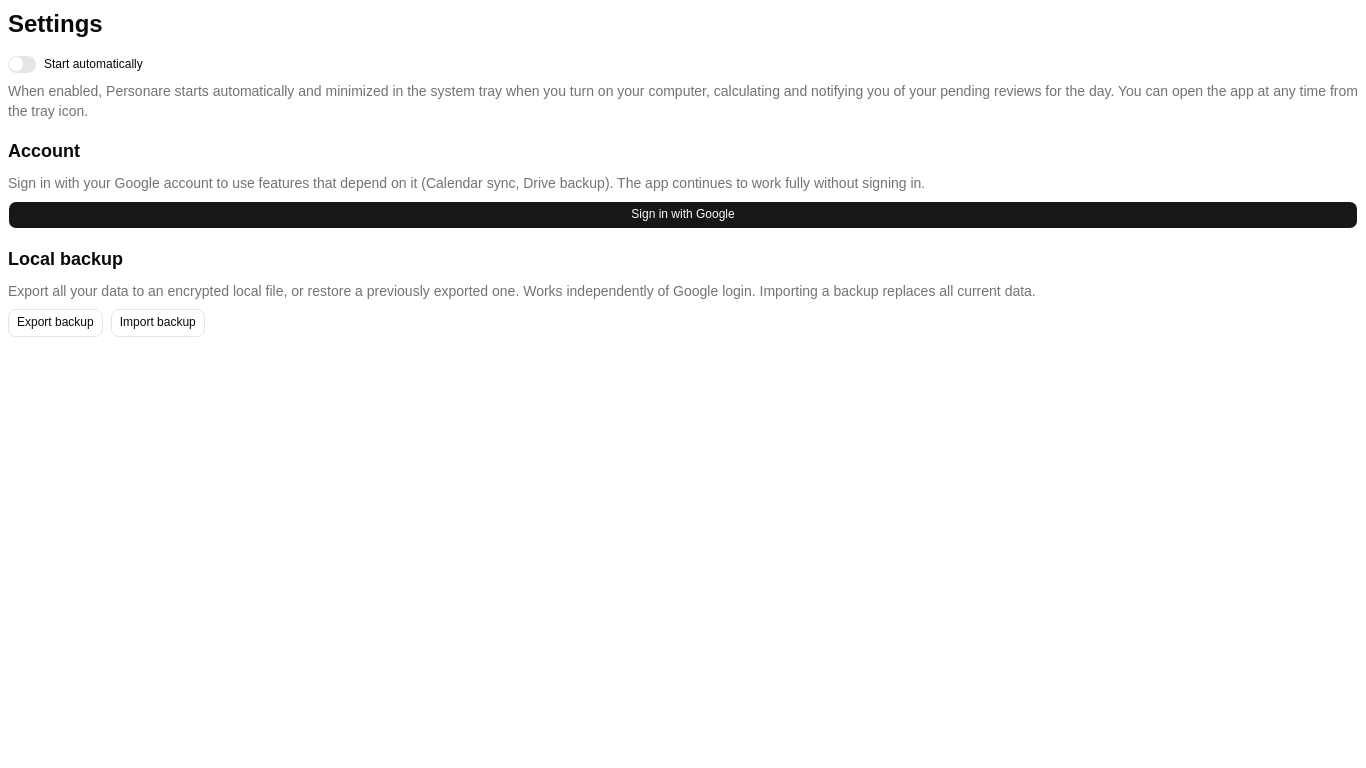
Test: SettingsPage backup section (Issue #21) › export › disables the confirm button until both passphrase fields match and are non-empty
The width and height of the screenshot is (1366, 768).
Click the button "Export backup" at (55, 323), box [8, 309, 103, 337]
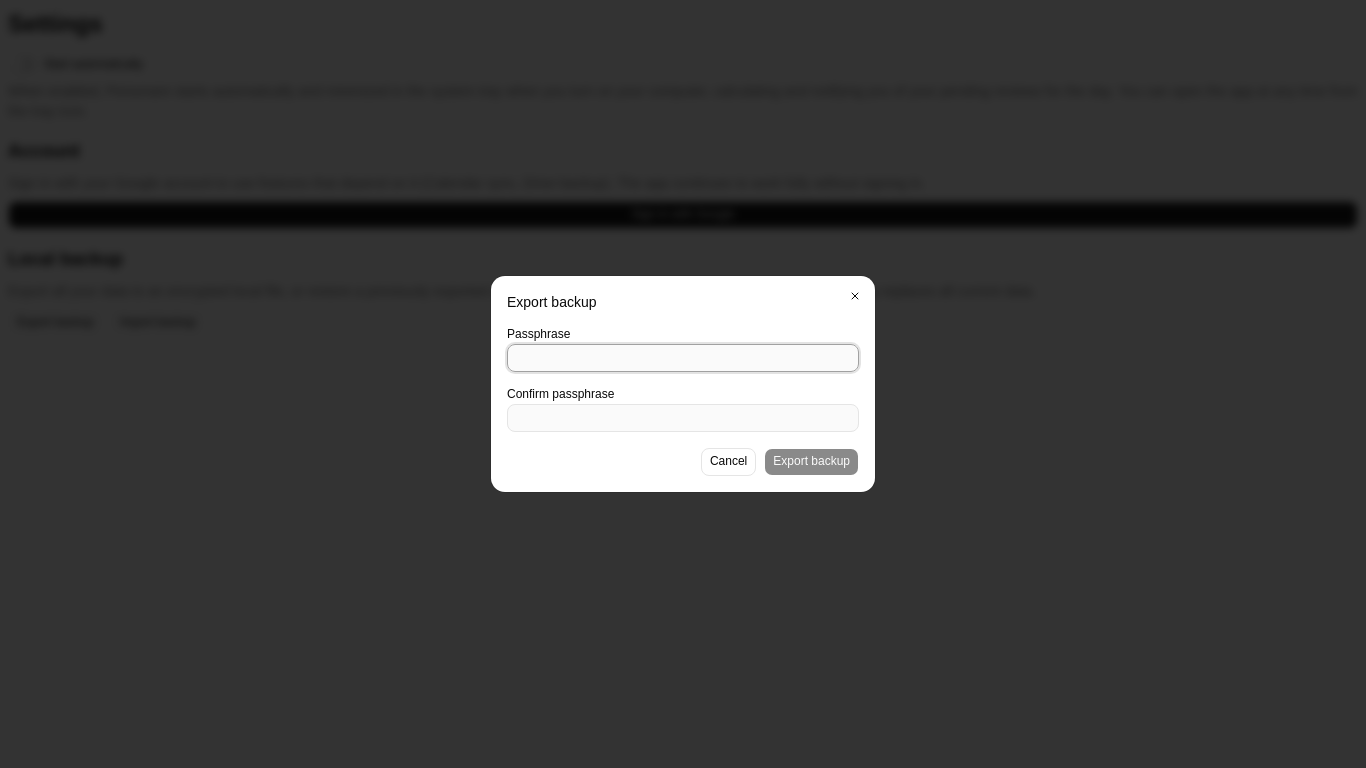
expect the button "Export backup" is disabled: met, box [764, 448, 859, 476]
Type "senha-forte" into the password field labelled "Passphrase" at (683, 358), box [507, 344, 859, 372]
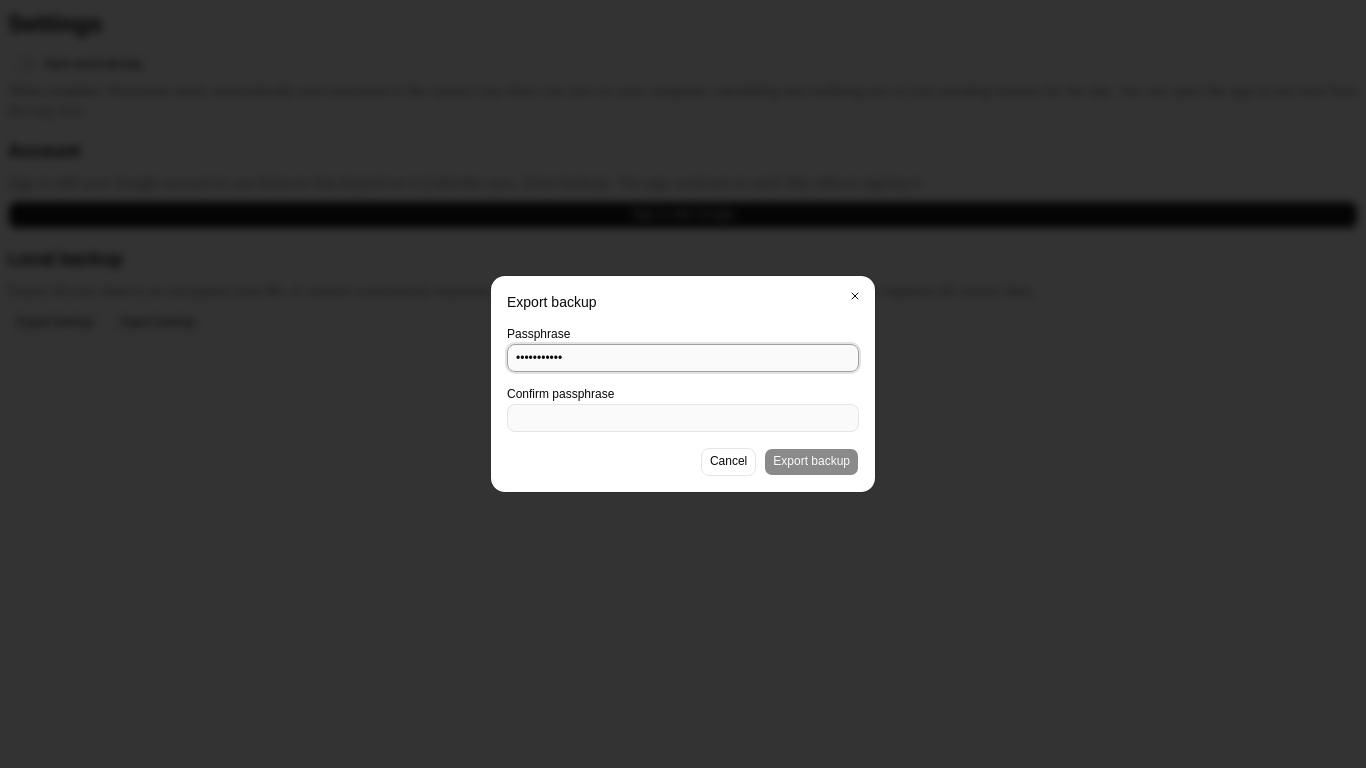
expect the button "Export backup" is disabled: met, box [764, 448, 859, 476]
Type "senha-diferente" into the password field labelled "Confirm passphrase" at (683, 418), box [507, 404, 859, 432]
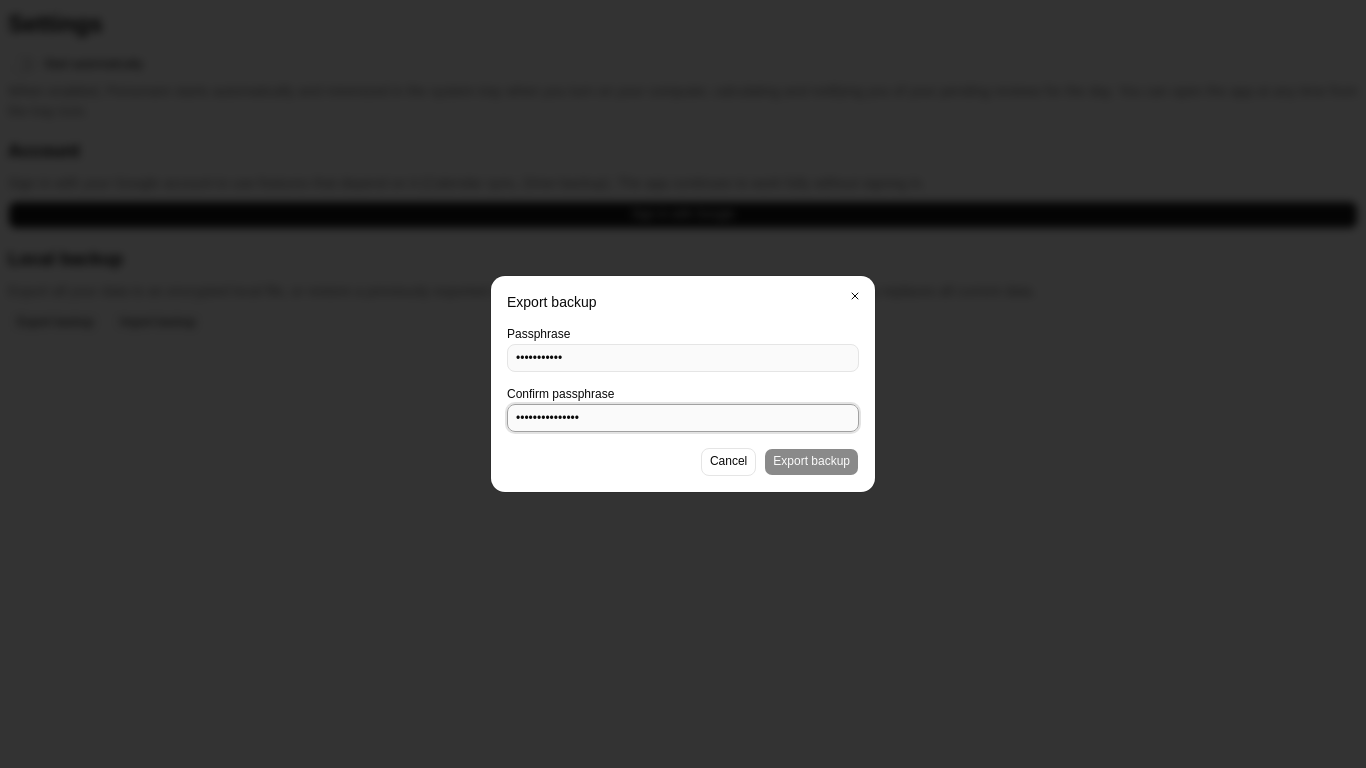
expect the button "Export backup" is disabled: met, box [764, 448, 859, 476]
Type "senha-forte" into the password field labelled "Confirm passphrase" at (683, 418), box [507, 404, 859, 432]
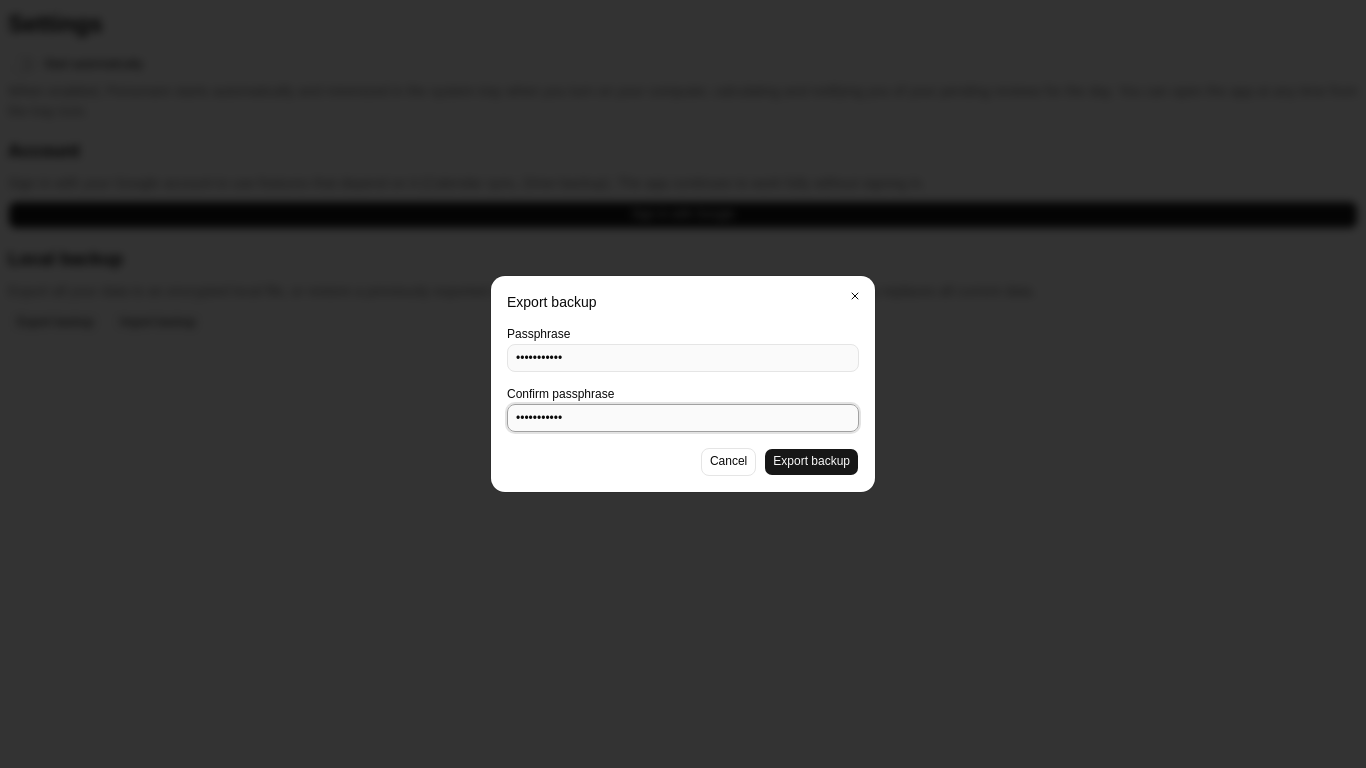
expect the button "Export backup" is enabled: met, box [764, 448, 859, 476]
